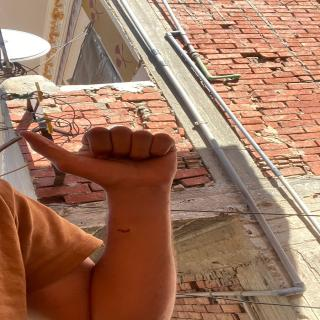DAD: (14, 116, 187, 193)
